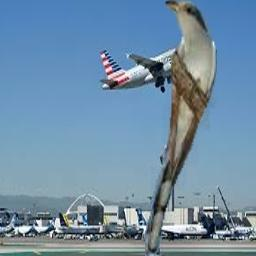Cuckoo: (145, 0, 217, 256)
